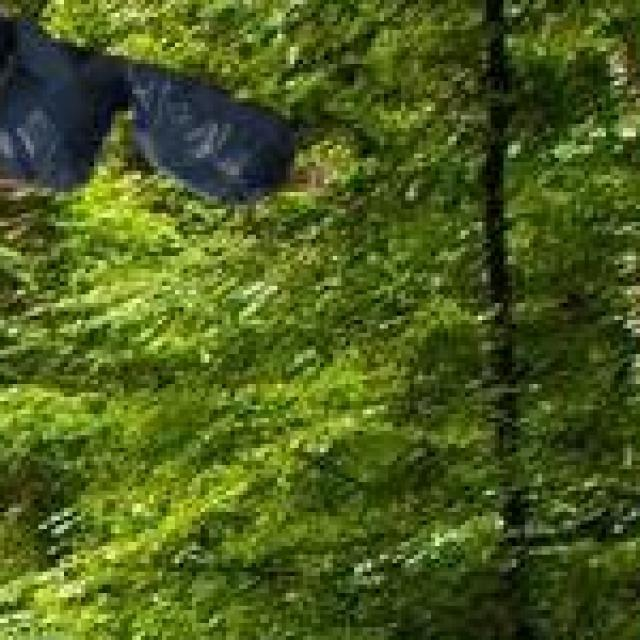Trashbag: (122, 54, 297, 208), (1, 13, 138, 200)
